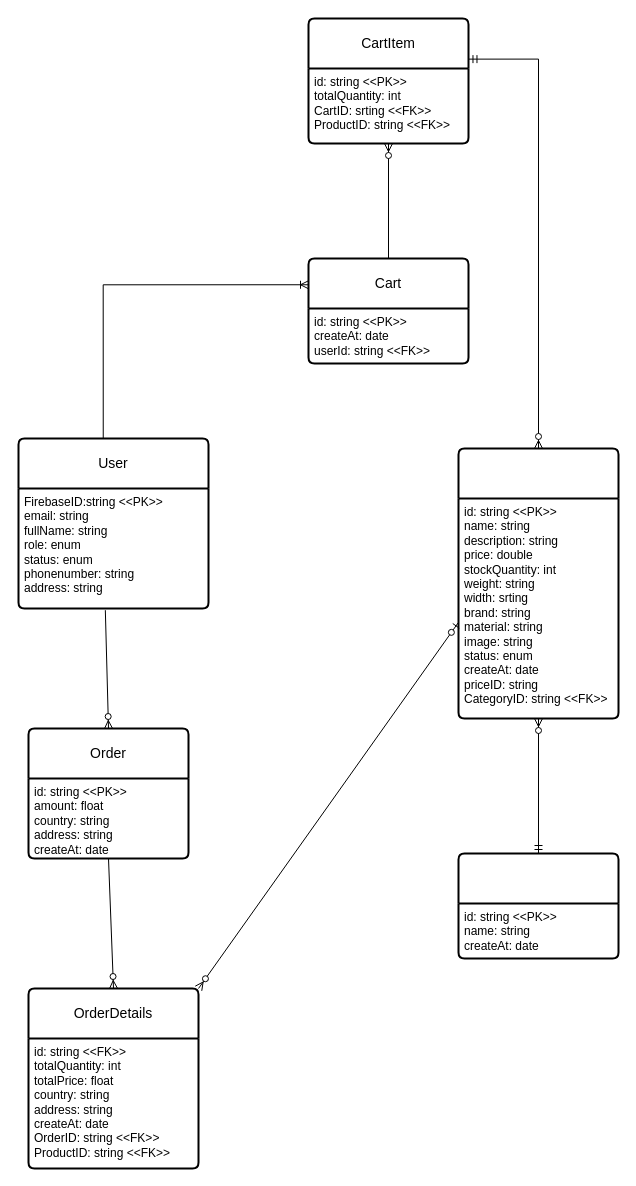
Image size: 636x1186. Some labels were removed from this diagram. Each missing label, with the box of its shape:
Category: (457, 852, 619, 959)
Product: (457, 447, 619, 719)
